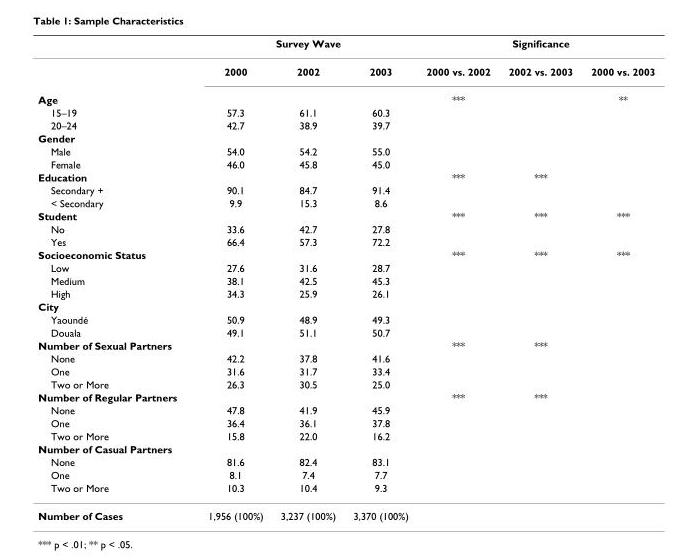table: (37, 36, 654, 521)
table column: (37, 36, 191, 521), (498, 36, 581, 521), (416, 36, 498, 521), (191, 36, 271, 521), (343, 36, 416, 521), (581, 36, 654, 521), (271, 36, 343, 521)
table column header: (37, 36, 654, 85)
table projected row header: (37, 131, 654, 144), (37, 299, 654, 312), (37, 442, 654, 455)
table row: (37, 56, 654, 85), (37, 36, 654, 56), (37, 85, 654, 105), (37, 481, 654, 501), (37, 501, 654, 521), (37, 105, 654, 118), (37, 118, 654, 131), (37, 131, 654, 144), (37, 144, 654, 157), (37, 157, 654, 170), (37, 170, 654, 183), (37, 183, 654, 196), (37, 196, 654, 209), (37, 209, 654, 222), (37, 222, 654, 235), (37, 247, 654, 260), (37, 260, 654, 273), (37, 273, 654, 286), (37, 286, 654, 299), (37, 299, 654, 312), (37, 312, 654, 325), (37, 325, 654, 338), (37, 338, 654, 351), (37, 351, 654, 364), (37, 364, 654, 377), (37, 377, 654, 390), (37, 390, 654, 403), (37, 403, 654, 416), (37, 416, 654, 429), (37, 429, 654, 442), (37, 442, 654, 455), (37, 455, 654, 468), (37, 468, 654, 481), (37, 235, 654, 247)
table spanning cell: (416, 36, 654, 56), (191, 36, 416, 56)
